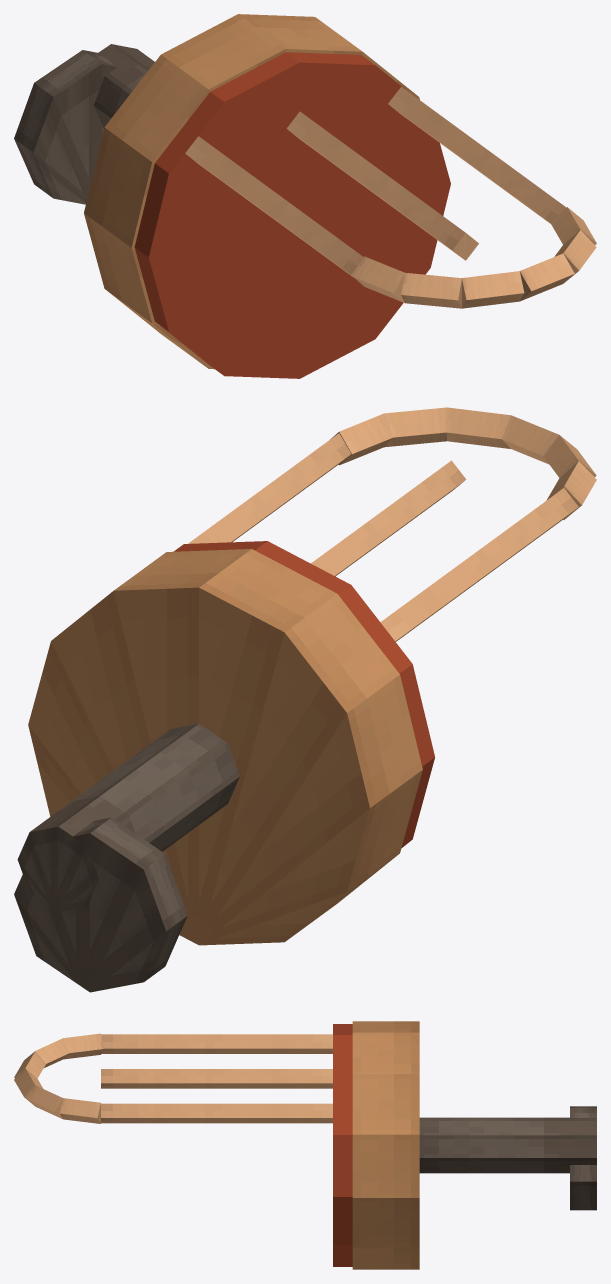
File: pz_g019_spiffos_dinner_chair.obj
The picture shows the model from 3 angles, top to bottom: view 1: azimuth 30°, elevation 25°; view 2: azimuth 150°, elevation 25°; view 3: azimuth 270°, elevation 25°; orthographic projection. The views are drawn at different scales.
Visible parts, largest first — view 1: seat_cushion_cap1, seat_rim_side, back_upright_side, arched_back_side, swivel_2_cap1, seat_cushion_side, swivel_2_side, swivel_1_side, seat_rim_cap1; view 2: seat_rim_cap0, seat_rim_side, back_upright_side, swivel_2_cap0, swivel_1_side, arched_back_side, seat_cushion_side, swivel_1_cap0, swivel_2_side; view 3: seat_rim_side, back_upright_side, swivel_1_side, seat_cushion_side, arched_back_side, swivel_2_side.
Part boxes in pixels (<box>): seat_cushion_cap1: <box>148,62,450,378</box>; seat_rim_side: <box>84,14,361,366</box>; back_upright_side: <box>185,86,566,277</box>; arched_back_side: <box>353,207,596,308</box>; swivel_2_cap1: <box>33,64,116,204</box>; seat_cushion_side: <box>134,52,374,373</box>; swivel_2_side: <box>14,50,116,197</box>; swivel_1_side: <box>93,44,154,128</box>; seat_rim_cap1: <box>131,49,419,369</box>; seat_rim_cap0: <box>28,587,369,945</box>; seat_rim_side: <box>114,549,422,939</box>; back_upright_side: <box>188,433,578,641</box>; swivel_2_cap0: <box>14,833,165,992</box>; swivel_1_side: <box>30,724,239,851</box>; arched_back_side: <box>339,407,596,504</box>; seat_cushion_side: <box>174,541,434,848</box>; swivel_1_cap0: <box>17,826,99,912</box>; swivel_2_side: <box>73,817,187,981</box>; seat_rim_side: <box>352,1021,419,1269</box>; back_upright_side: <box>101,1034,332,1123</box>; swivel_1_side: <box>419,1117,596,1173</box>; seat_cushion_side: <box>333,1024,352,1266</box>; arched_back_side: <box>14,1033,103,1123</box>; swivel_2_side: <box>570,1106,596,1210</box>.
Bounding box in the file's own units: 0.5284 × 0.5284 × 1.24.
1 material, 1 textured.
